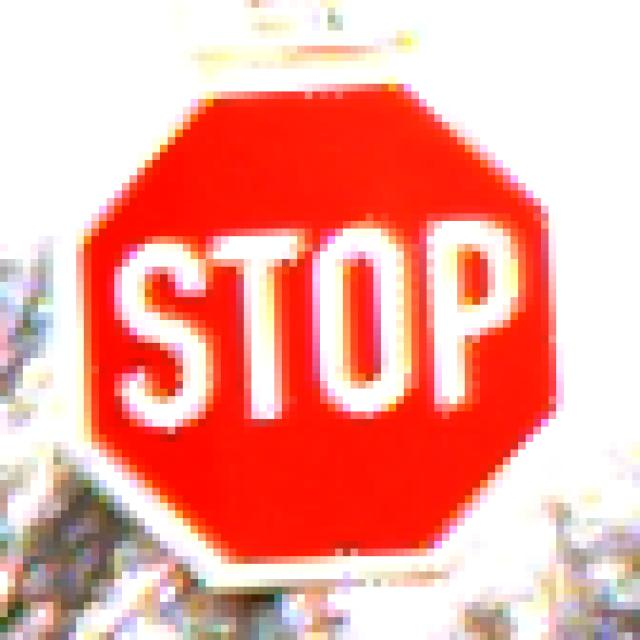STOP: (54, 54, 588, 588)
